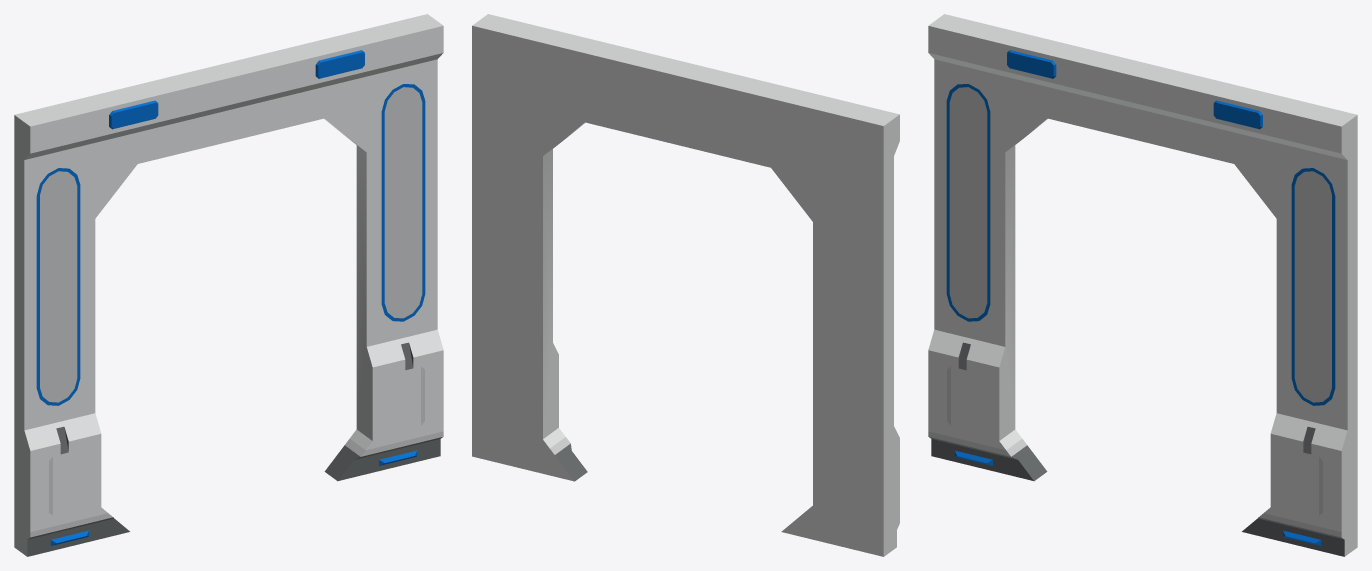
File: Wall_type_A_055.fbx
The picture shows the model from 3 angles, left to right: view 1: azimuth 30°, elevation 25°; view 2: azimuth 150°, elevation 25°; view 3: azimuth 330°, elevation 25°; orthographic projection.
Visible parts, largest first — view 1: Wall_type_A_055; view 2: Wall_type_A_055; view 3: Wall_type_A_055.
Part boxes in pixels (left/top/right/bottom): Wall_type_A_055: left=14, top=14, right=443, bottom=556; Wall_type_A_055: left=472, top=14, right=899, bottom=556; Wall_type_A_055: left=928, top=14, right=1357, bottom=556.
Size of the model in its own units: 400 by 28.98 by 400.
